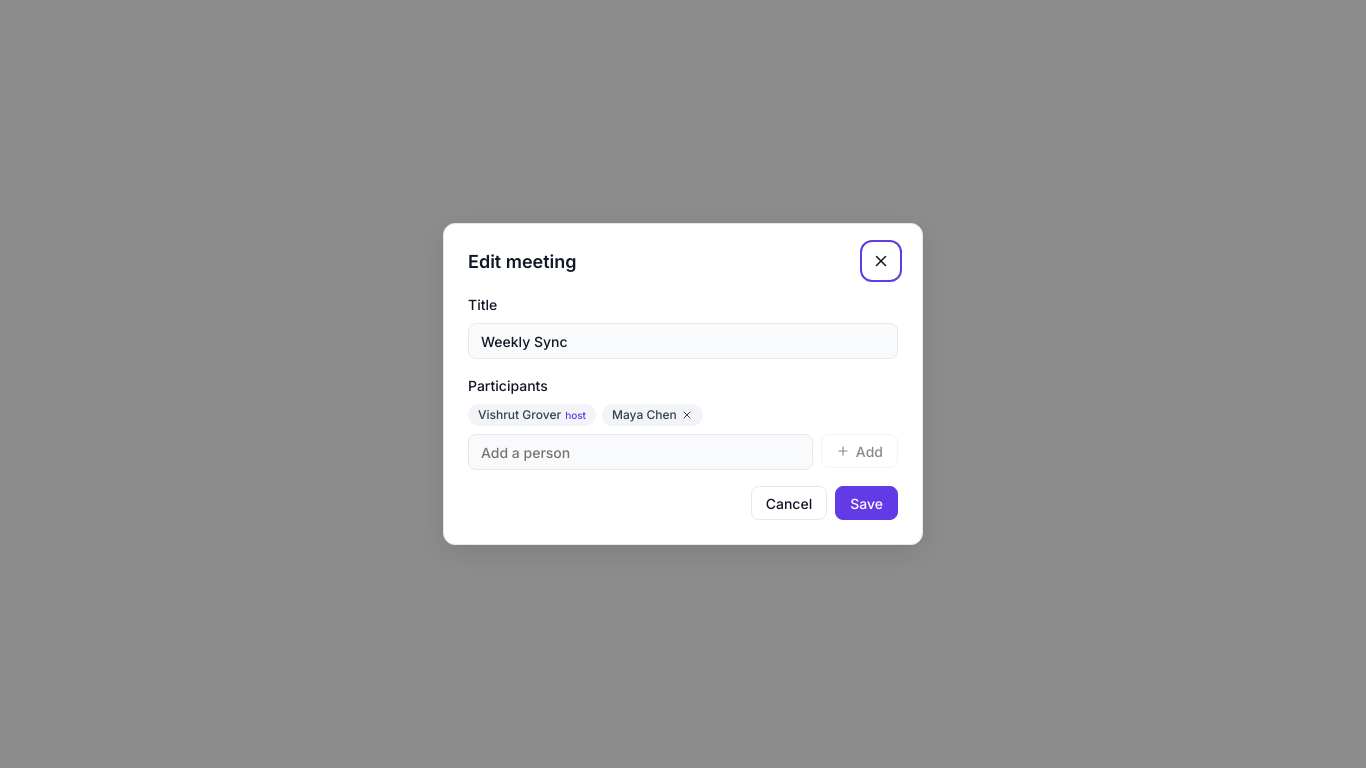
Test: EditMeetingModal › shows the server's message when saving fails
Click the button "Save" at (867, 503), box [835,486,898,520]
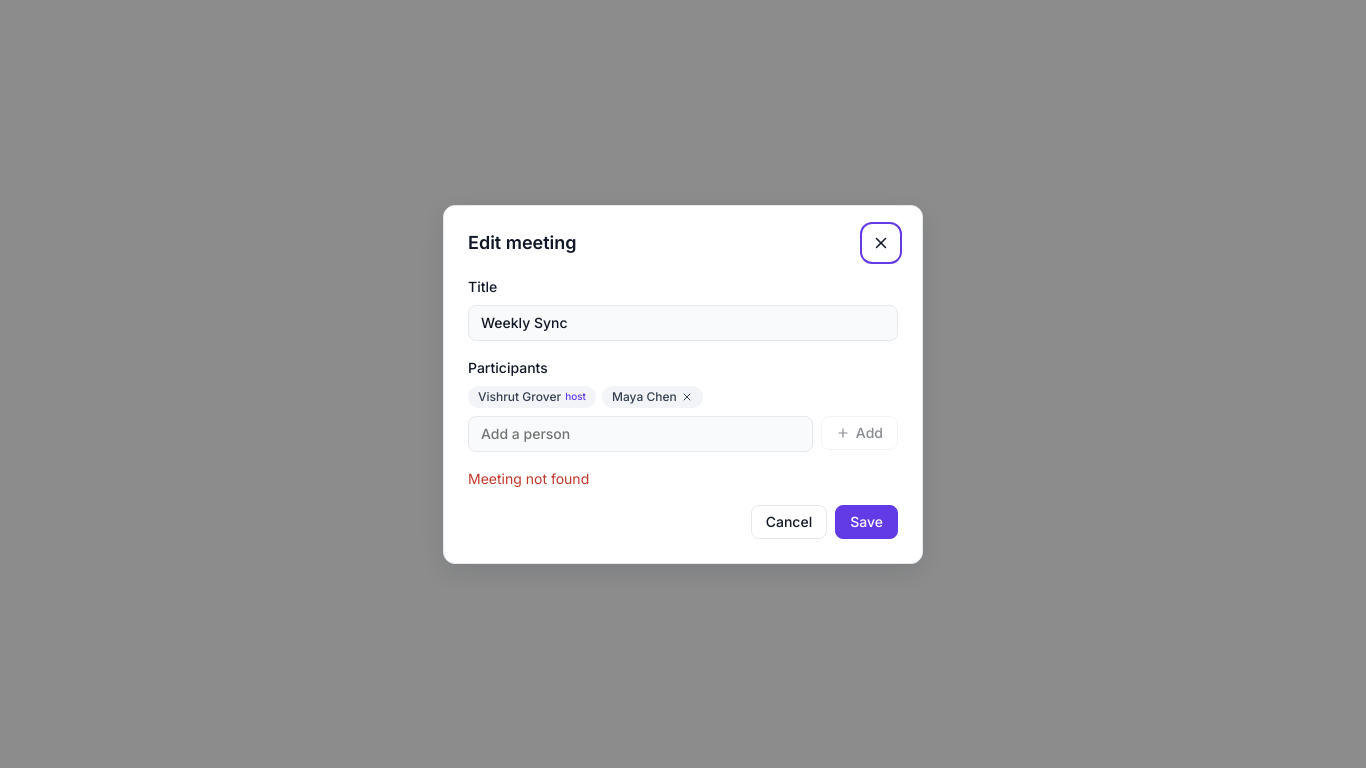
Expected: the message reads "Meeting not found", [468,470,589,486]
